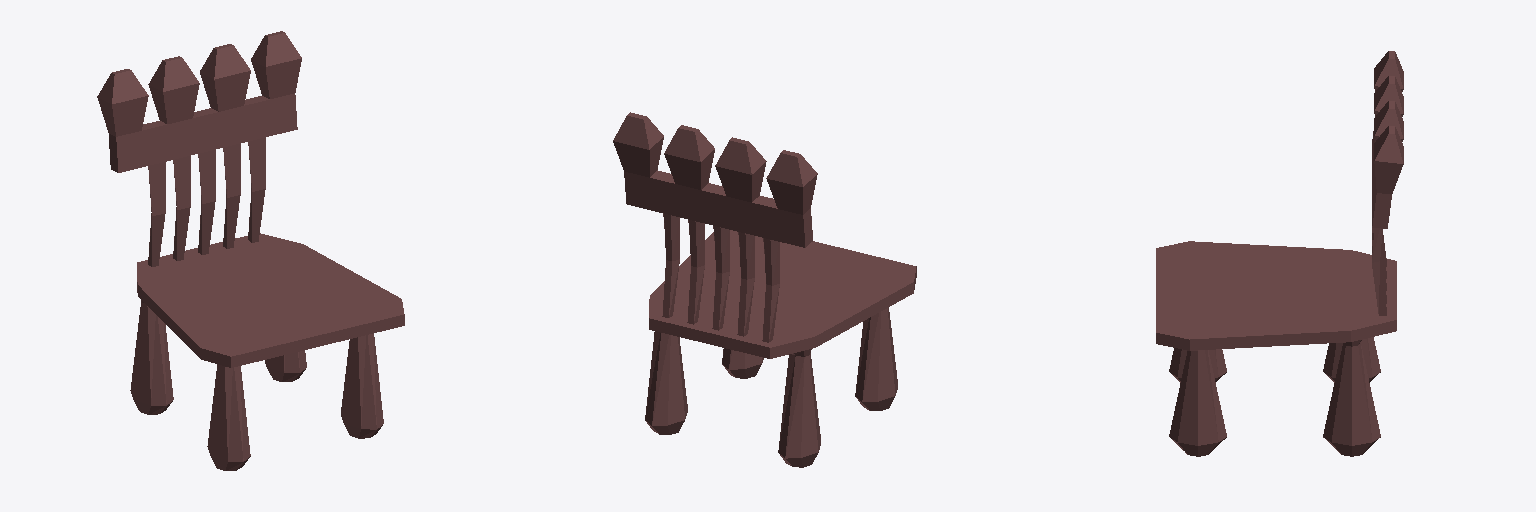
Rendered from Chairremodelsubstanceready.obj.
3 views of the same model, side by side, from view 1: azimuth 30°, elevation 25°; view 2: azimuth 150°, elevation 25°; view 3: azimuth 270°, elevation 25° (orthographic).
Parts seen in each view (by area): view 1: chairseatShape; view 2: chairseatShape; view 3: chairseatShape.
Part boxes in pixels (left/top/right/bottom): chairseatShape: left=97, top=31, right=404, bottom=470; chairseatShape: left=613, top=112, right=916, bottom=467; chairseatShape: left=1156, top=51, right=1403, bottom=456.
Size of the model in its own units: 6.05 by 9.35 by 6.43.